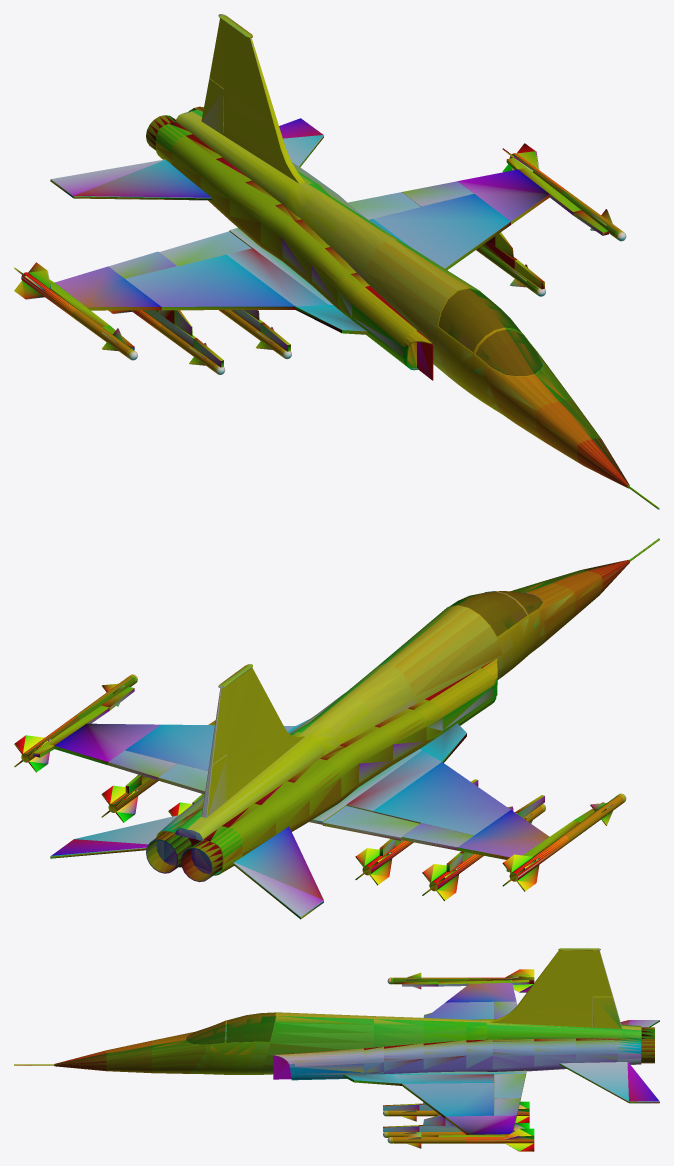
3 views of the same model, one above another, from view 1: azimuth 30°, elevation 25°; view 2: azimuth 150°, elevation 25°; view 3: azimuth 270°, elevation 25° (orthographic). The views are drawn at different scales.
Parts seen in each view (by area): view 1: entity_38, Box003, Box001, Box007, Group001, Group006, Group005, Cylinder002, Group004, Group002; view 2: entity_38, Box003, Box001, Box007, Cylinder001, Group001, Group006, Group005, Group004, Group002, Cylinder002; view 3: entity_38, Box001, Box003, Box007, Group001, Group003, Group006, Cylinder001, Cylinder002, Group002.
Boxes of the visible parts, x1,y1,x2,y2 form: entity_38: (50, 18, 629, 488); Box003: (54, 169, 549, 334); Box001: (155, 122, 416, 365); Box007: (49, 158, 608, 367); Group001: (502, 143, 626, 241); Group006: (14, 262, 137, 360); Group005: (108, 310, 224, 374); Cylinder002: (72, 309, 134, 358); Group004: (219, 310, 291, 359); Group002: (476, 246, 545, 296); entity_38: (50, 559, 629, 919); Box003: (54, 719, 549, 859); Box001: (156, 668, 493, 875); Box007: (33, 687, 604, 871); Cylinder001: (146, 832, 222, 882); Group001: (14, 674, 137, 772); Group006: (502, 793, 626, 891); Group005: (422, 803, 545, 900); Group004: (355, 840, 413, 885); Group002: (101, 778, 158, 822); Cylinder002: (563, 794, 625, 842); entity_38: (54, 950, 659, 1115); Box001: (294, 1025, 641, 1080); Box003: (343, 983, 526, 1134); Box007: (383, 980, 529, 1136); Group001: (387, 1128, 534, 1151); Group003: (383, 1101, 529, 1122); Group006: (387, 969, 534, 992); Cylinder001: (641, 1027, 654, 1063); Cylinder002: (391, 972, 465, 989); Group002: (383, 1123, 529, 1137).
Size of the model in its own units: 2.35 by 0.9286 by 3.85.
